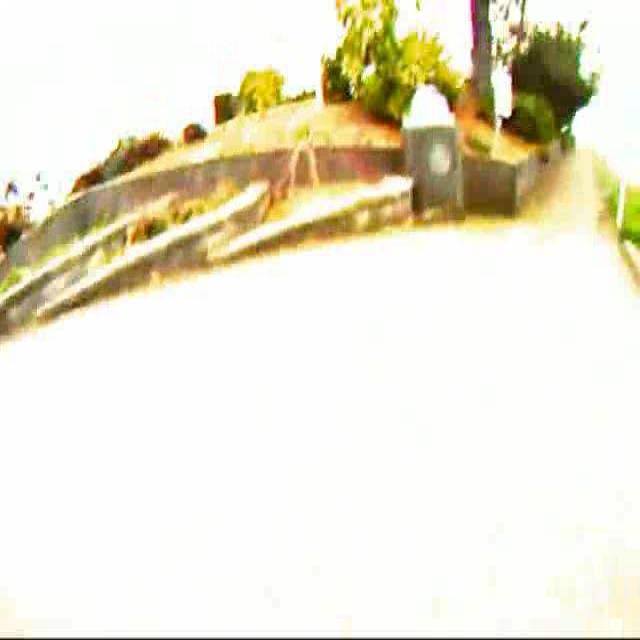other: (340, 247, 622, 449), (272, 91, 390, 210)
